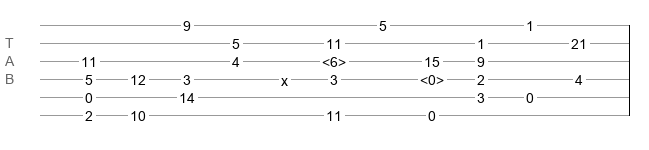0: (85, 90, 93, 100), (428, 108, 436, 118), (526, 90, 534, 100)
1: (477, 36, 485, 46), (526, 18, 534, 28)
10: (130, 108, 146, 118)
11: (81, 54, 97, 64), (326, 36, 342, 46), (326, 108, 342, 118)
12: (130, 72, 146, 82)
14: (179, 90, 195, 100)
15: (424, 54, 440, 64)
2: (85, 108, 93, 118), (477, 72, 485, 82)
21: (571, 36, 587, 46)
3: (183, 72, 191, 82), (330, 72, 338, 82), (477, 90, 485, 100)
4: (232, 54, 240, 64), (575, 72, 583, 82)
5: (85, 72, 93, 82), (232, 36, 240, 46), (379, 18, 387, 28)
9: (183, 18, 191, 28), (477, 54, 485, 64)
harmonic: (322, 54, 346, 64), (420, 72, 444, 82)
x: (281, 73, 288, 81)
